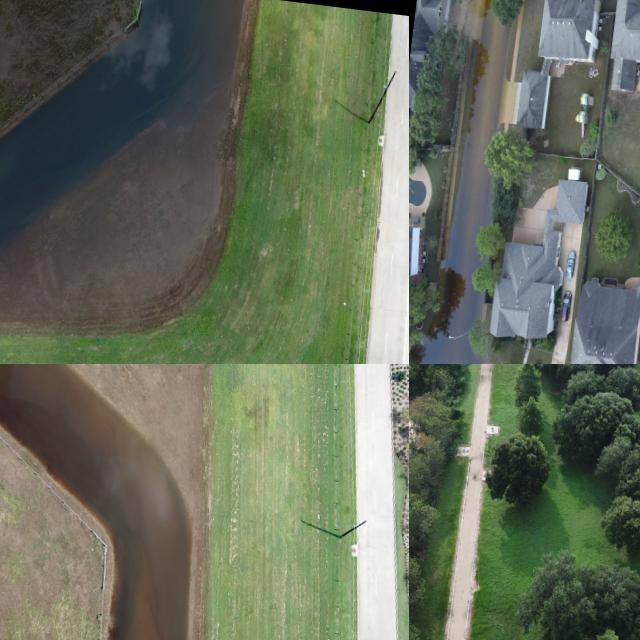fire: (0, 0, 243, 244), (0, 364, 191, 640), (419, 25, 506, 364), (447, 0, 542, 153)
